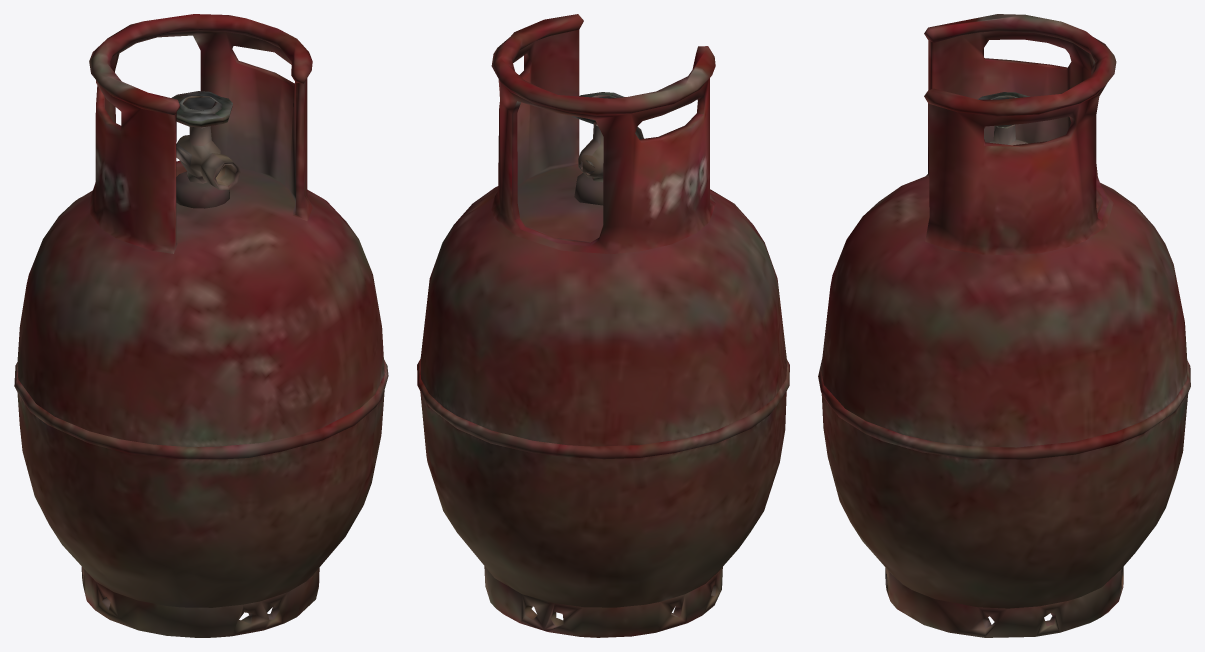
The model's file is lpg.glb.
3 views of the same model, side by side, from view 1: azimuth 30°, elevation 25°; view 2: azimuth 150°, elevation 25°; view 3: azimuth 270°, elevation 25° (orthographic).
Parts seen in each view (by area): view 1: small_lpg_tank; view 2: small_lpg_tank; view 3: small_lpg_tank.
Boxes of the visible parts, x1,y1,x2,y2 form: small_lpg_tank: (14,14,388,637); small_lpg_tank: (417,14,789,637); small_lpg_tank: (818,14,1190,637).
Size of the model in its own units: 0.4087 by 0.642 by 0.4083.
1 material, 1 textured.
